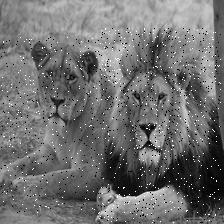Lion: (97, 29, 221, 224), (0, 38, 100, 214)
